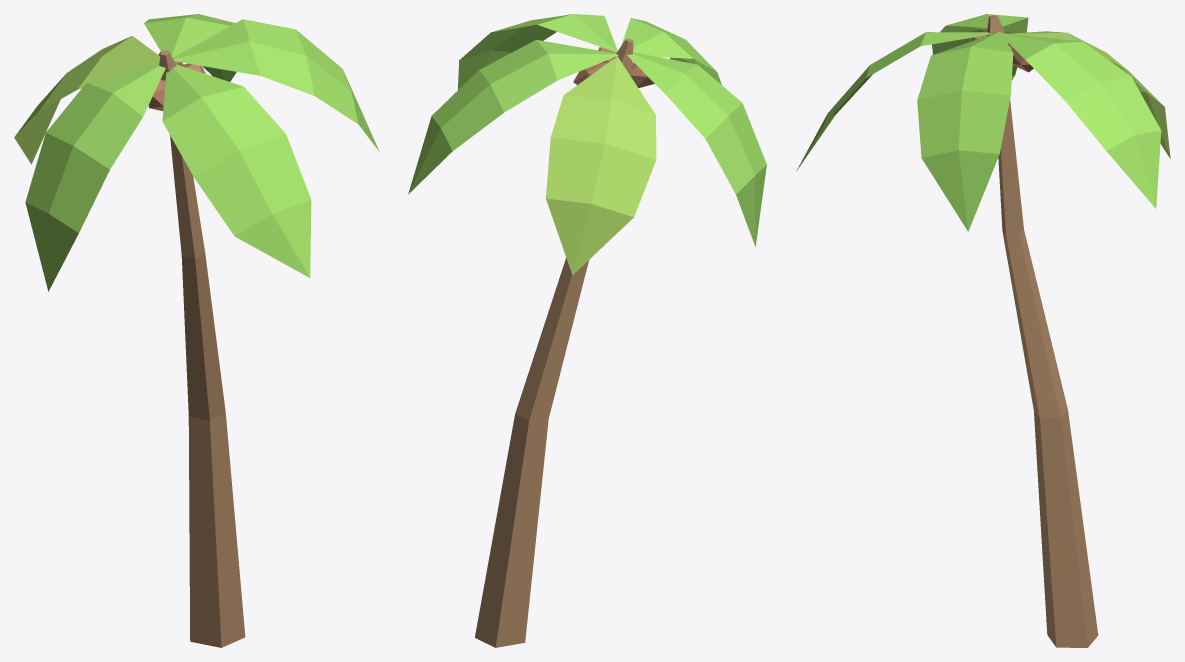
File: Palm_Tree_Coconut_OneSided_s_06_LOD.fbx
3 renders of one model, left to right at view 1: azimuth 30°, elevation 25°; view 2: azimuth 150°, elevation 25°; view 3: azimuth 270°, elevation 25°, orthographic. The views are drawn at different scales.
Parts seen in each view (by area): view 1: Palm_Tree_Coconut_OneSided_s_06_LOD0; view 2: Palm_Tree_Coconut_OneSided_s_06_LOD0; view 3: Palm_Tree_Coconut_OneSided_s_06_LOD0.
Boxes of the visible parts, x1,y1,x2,y2 form: Palm_Tree_Coconut_OneSided_s_06_LOD0: [14, 14, 379, 647]; Palm_Tree_Coconut_OneSided_s_06_LOD0: [408, 14, 766, 647]; Palm_Tree_Coconut_OneSided_s_06_LOD0: [796, 14, 1170, 647].
Size of what is drawn, in the model's own units: 211 by 393 by 229.
